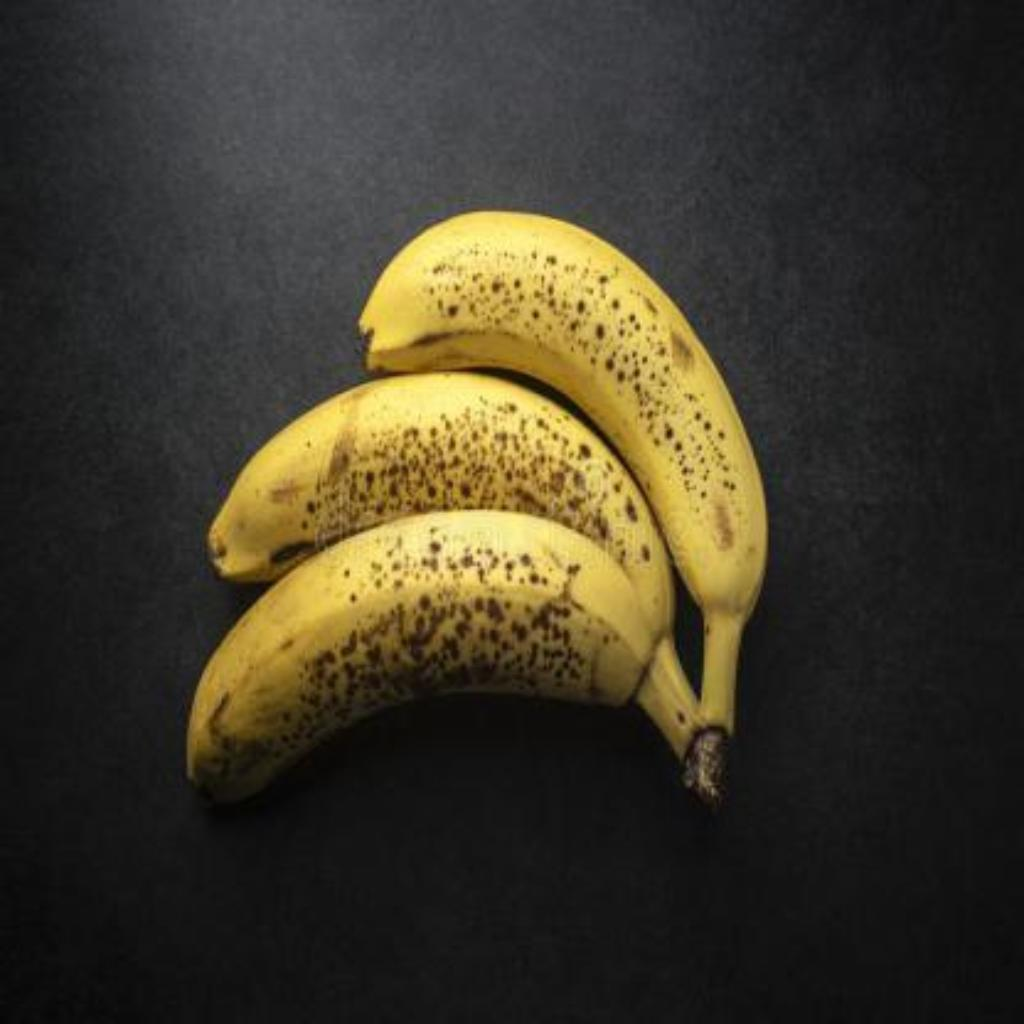banana: (357, 212, 770, 807), (182, 512, 652, 810), (207, 389, 652, 586)
